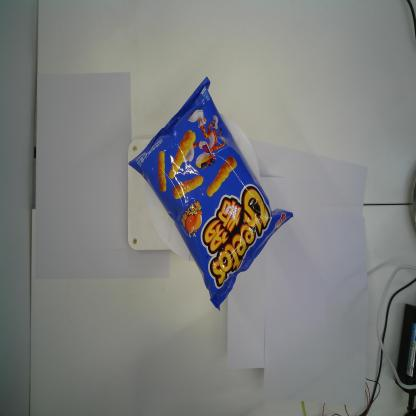Puffed Food: (128, 76, 296, 312)
